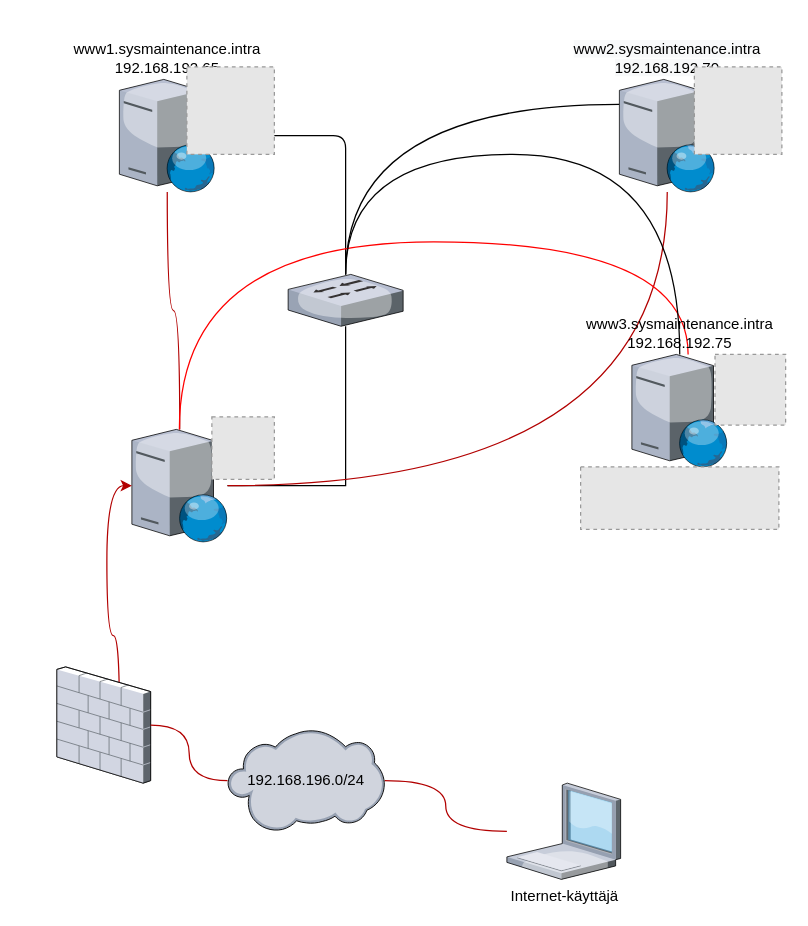
The diagram is 808 pixels wide and 926 high, and some of its shapes have lost their labels. Grey dashed boxes stand in for pictures. Each missing label, with the centre of its shape:
"Kytkin 192.168.192.0 / 24" goes at point (345, 300).
"nginx.sysmaintenance.intra 192.168.192.50" goes at point (179, 485).
"Palomuuri gw.sysmaintenance.intra" goes at point (103, 724).
